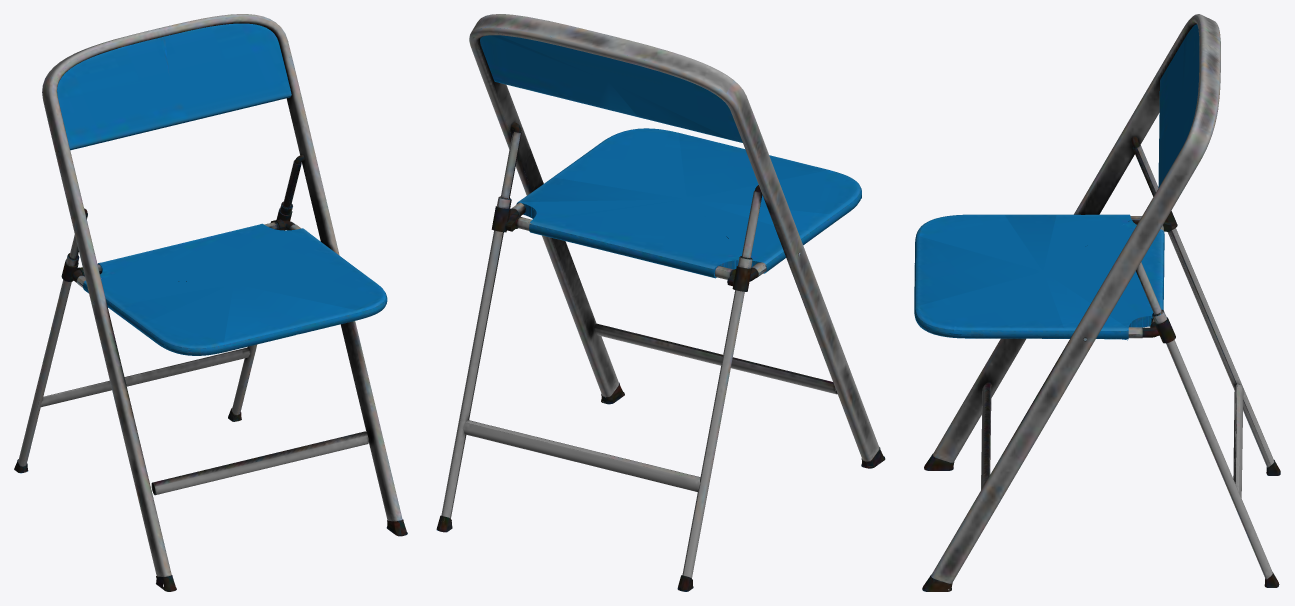
Rendered from chair-10.glb.
3 renders of one model, left to right at view 1: azimuth 30°, elevation 25°; view 2: azimuth 150°, elevation 25°; view 3: azimuth 270°, elevation 25°, orthographic. The views are drawn at different scales.
Parts seen in each view (by area): view 1: Object_4, Object_3, Object_5, Object_2; view 2: Object_4, Object_3, Object_5, Object_2; view 3: Object_4, Object_3, Object_5, Object_2.
Boxes of the visible parts, left/top/right/bottom form: Object_4: left=14, top=23, right=407, bottom=591; Object_3: left=42, top=14, right=402, bottom=576; Object_5: left=17, top=36, right=406, bottom=591; Object_2: left=43, top=37, right=407, bottom=591; Object_4: left=436, top=35, right=884, bottom=591; Object_3: left=469, top=14, right=879, bottom=461; Object_5: left=437, top=122, right=884, bottom=591; Object_2: left=437, top=133, right=885, bottom=591; Object_4: left=914, top=24, right=1280, bottom=591; Object_3: left=914, top=14, right=1220, bottom=583; Object_5: left=922, top=74, right=1280, bottom=590; Object_2: left=914, top=71, right=1280, bottom=591.
Size of the model in its own units: 5.01 by 8.72 by 6.12.
1 material, 1 textured.
